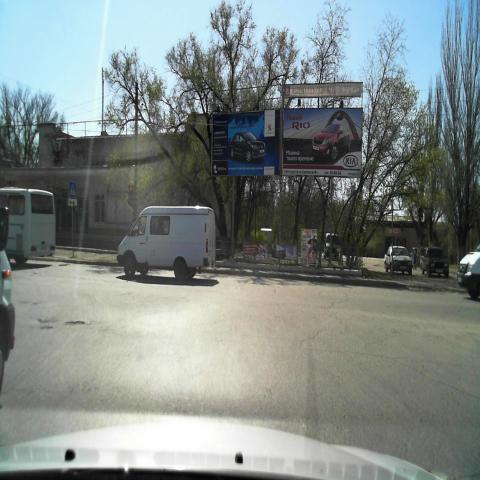8_15: (67, 197, 78, 207)
